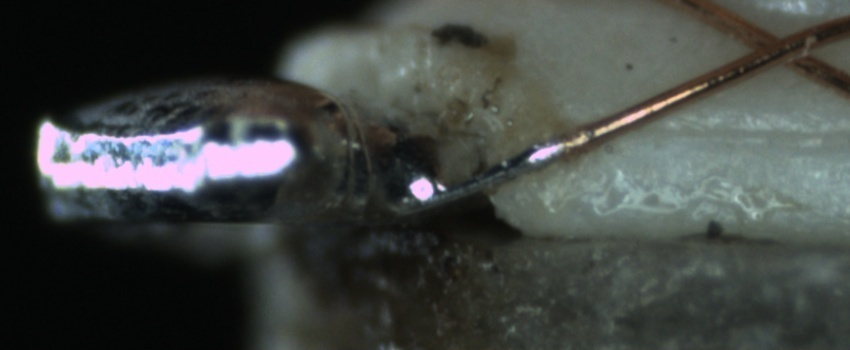CL: (729, 15, 827, 76)
DL: (635, 100, 846, 164)
TS: (396, 134, 572, 219)
TTCW: (396, 117, 597, 217)
